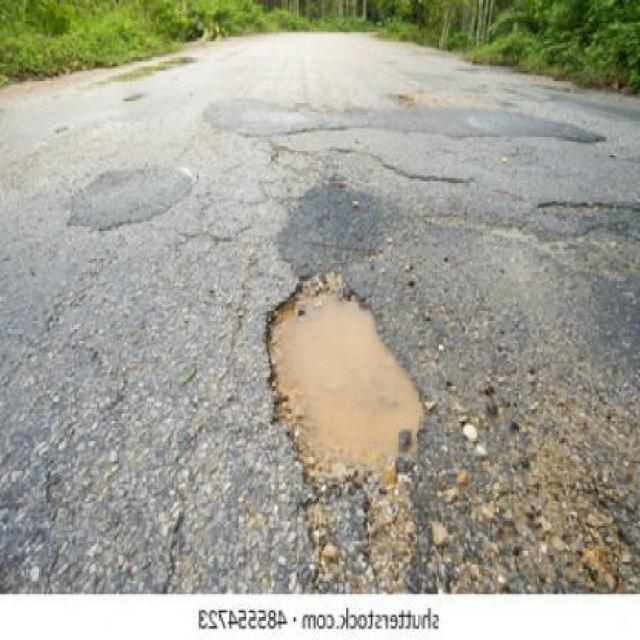pothole: (259, 270, 430, 593), (520, 197, 640, 293)
